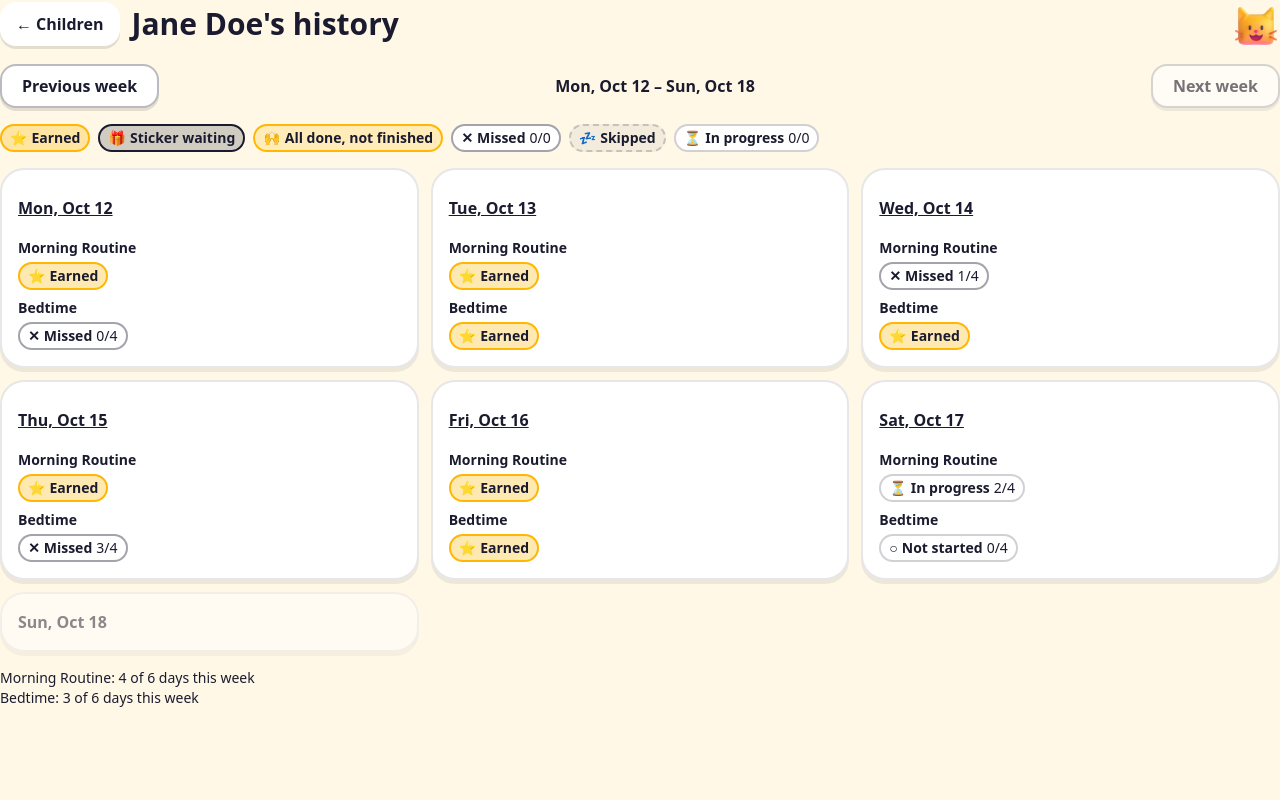
it: HistoryScreen › shows yesterday routines in the day sheet
This screenshot has width=1280, height=800.
Expected: the heading "Jane Doe's history" is shown, x1=132 y1=3 x2=399 y2=44
Click the button "Fri, Oct 16" at (489,420), box x1=449 y1=398 x2=831 y2=442
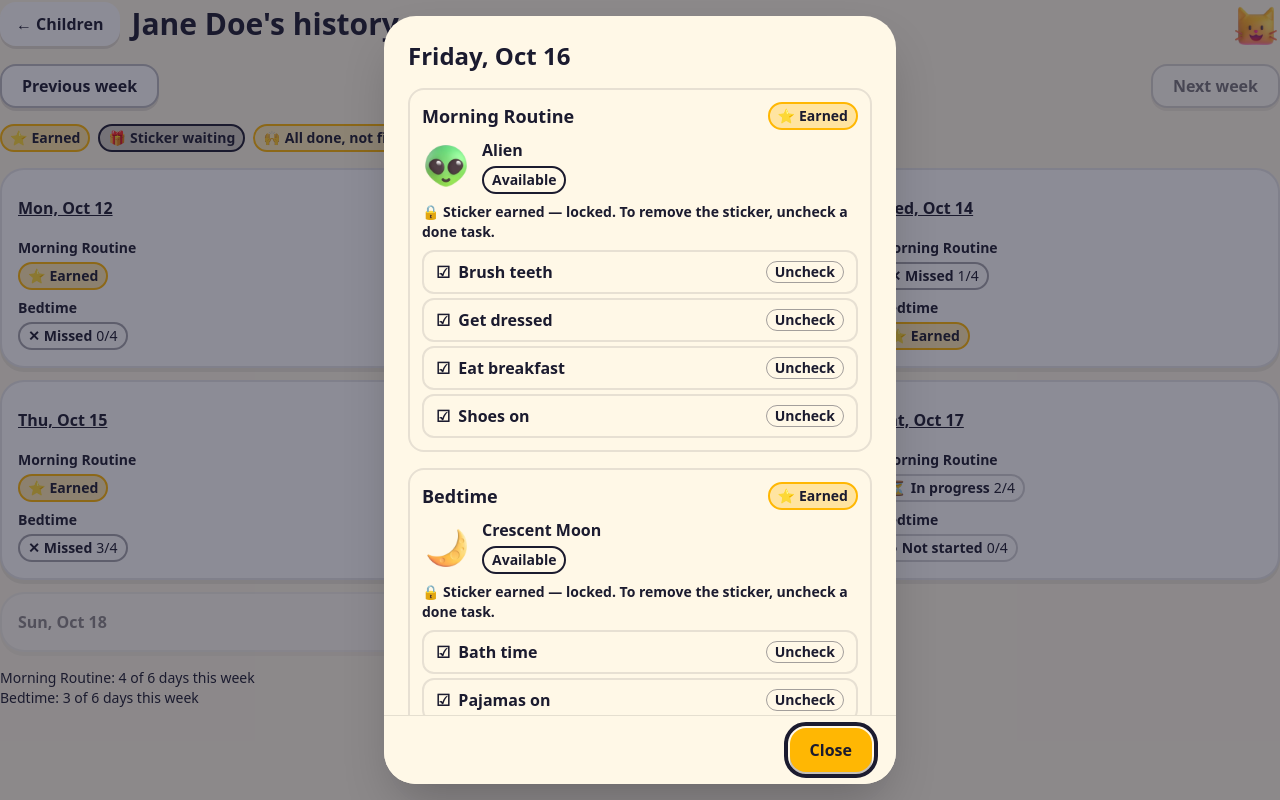
Expected: the heading "Morning Routine" is shown, x1=422 y1=102 x2=574 y2=130
Expected: the text "Sticker earned — locked" below "Alien" is shown, x1=422 y1=202 x2=848 y2=241
